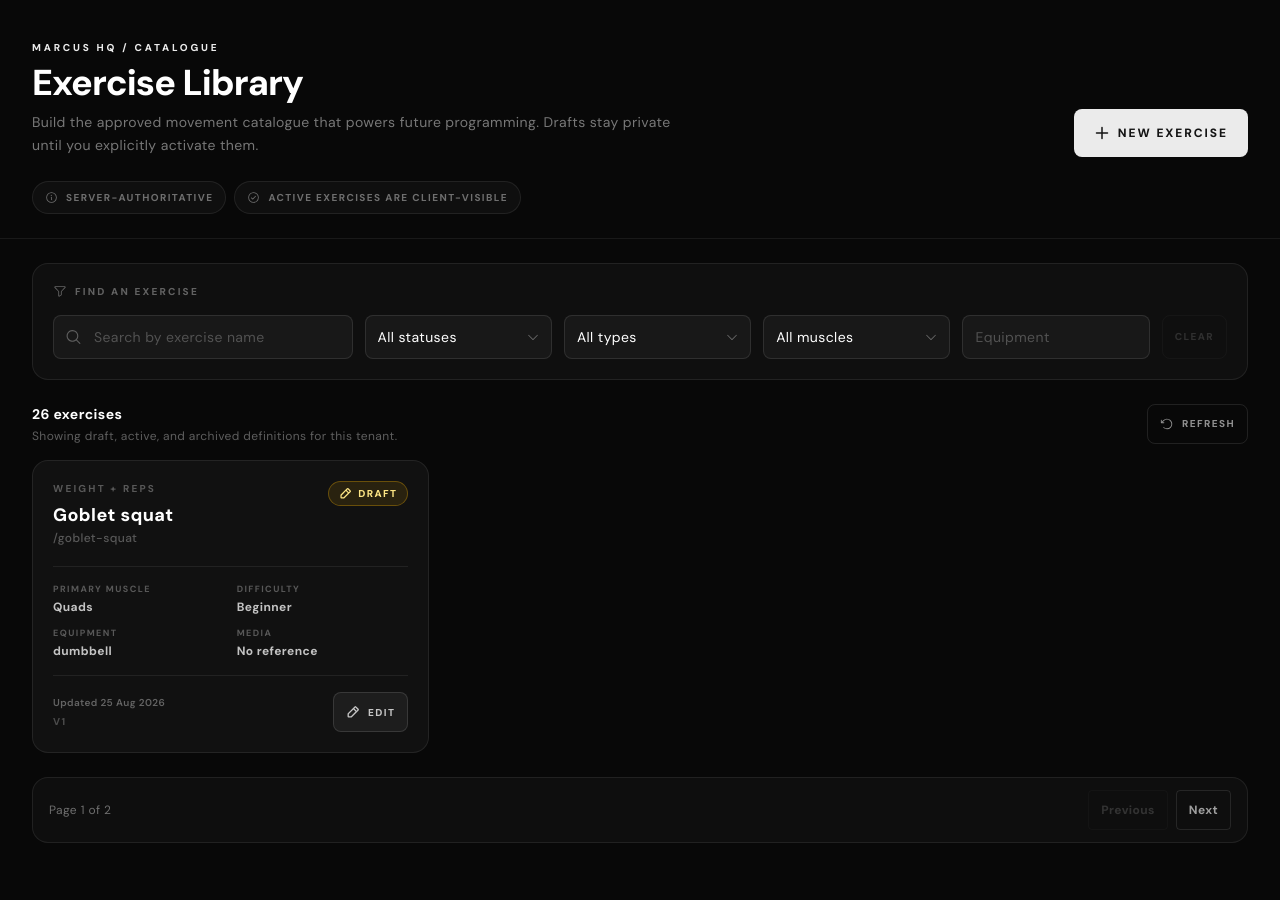
Scenario: ExerciseLibrary page › requests the next server page through catalogue pagination
Expected: the text "Page 1 of 2" is shown, [49, 802, 111, 818]
Click the button "Next": (1203, 810) [1176, 790, 1231, 830]
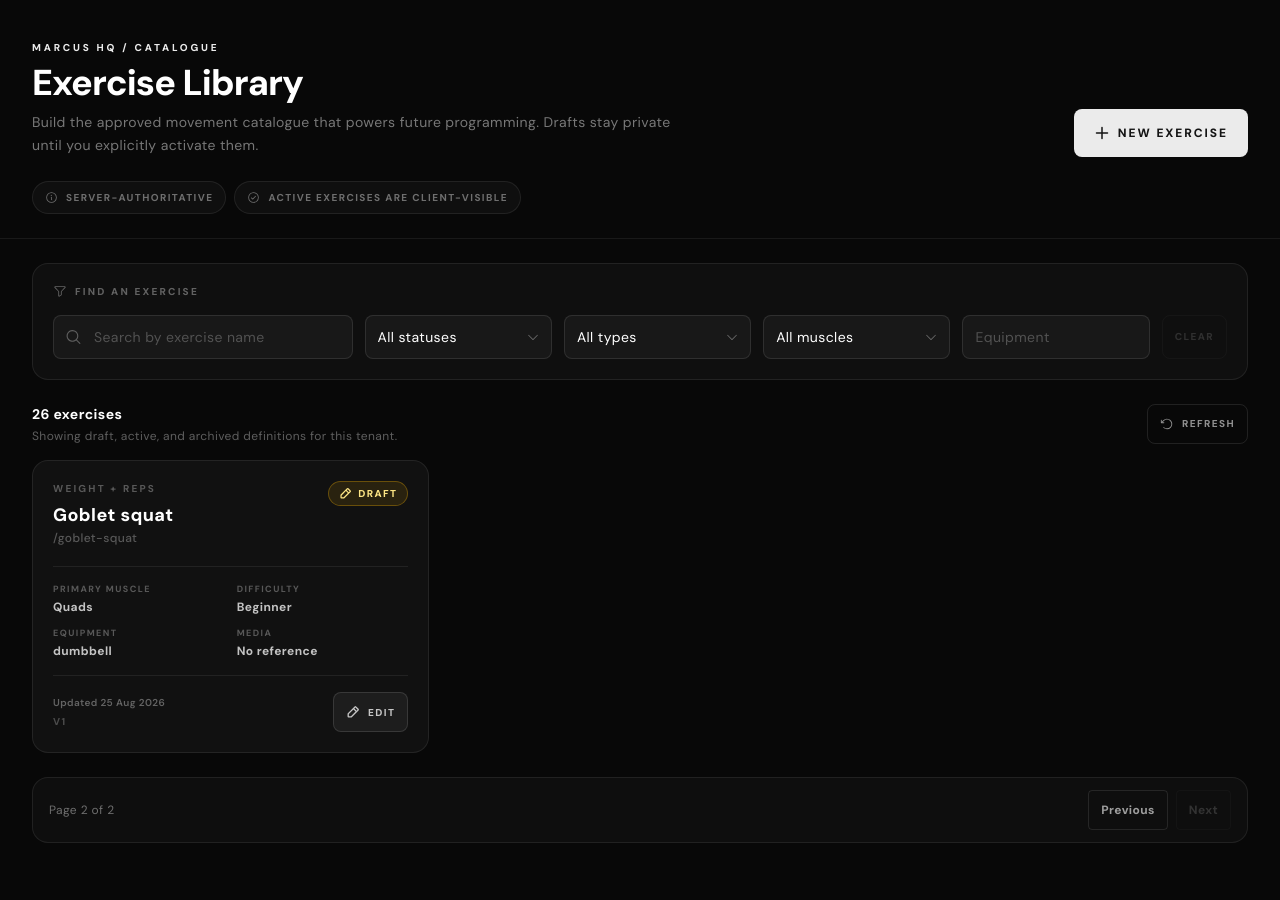
Result: the text "Page 2 of 2" is shown at [49, 802, 114, 818]
